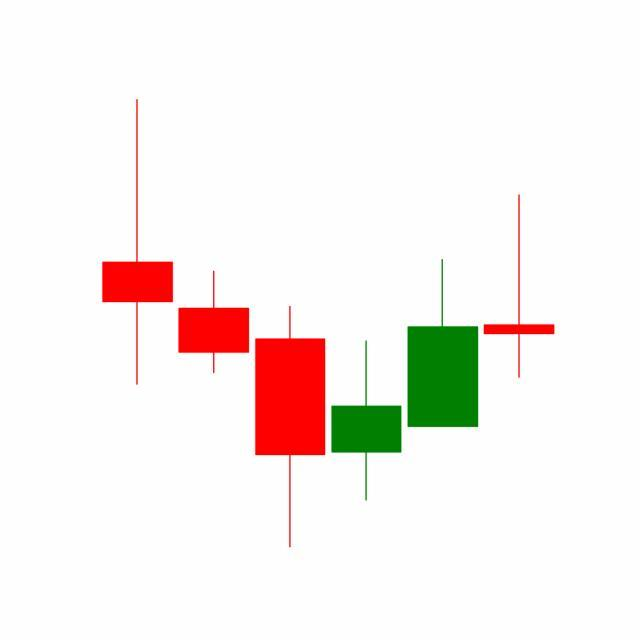Three Inside Up-Down: (252, 256, 482, 549)
